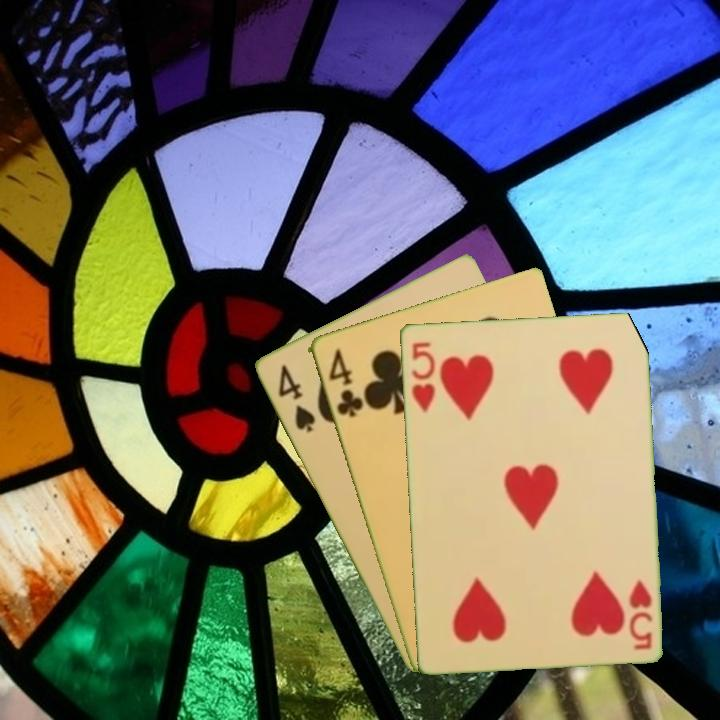4c: (324, 344, 365, 420)
4s: (274, 361, 318, 435)
5h: (408, 338, 438, 415), (625, 575, 655, 652)
